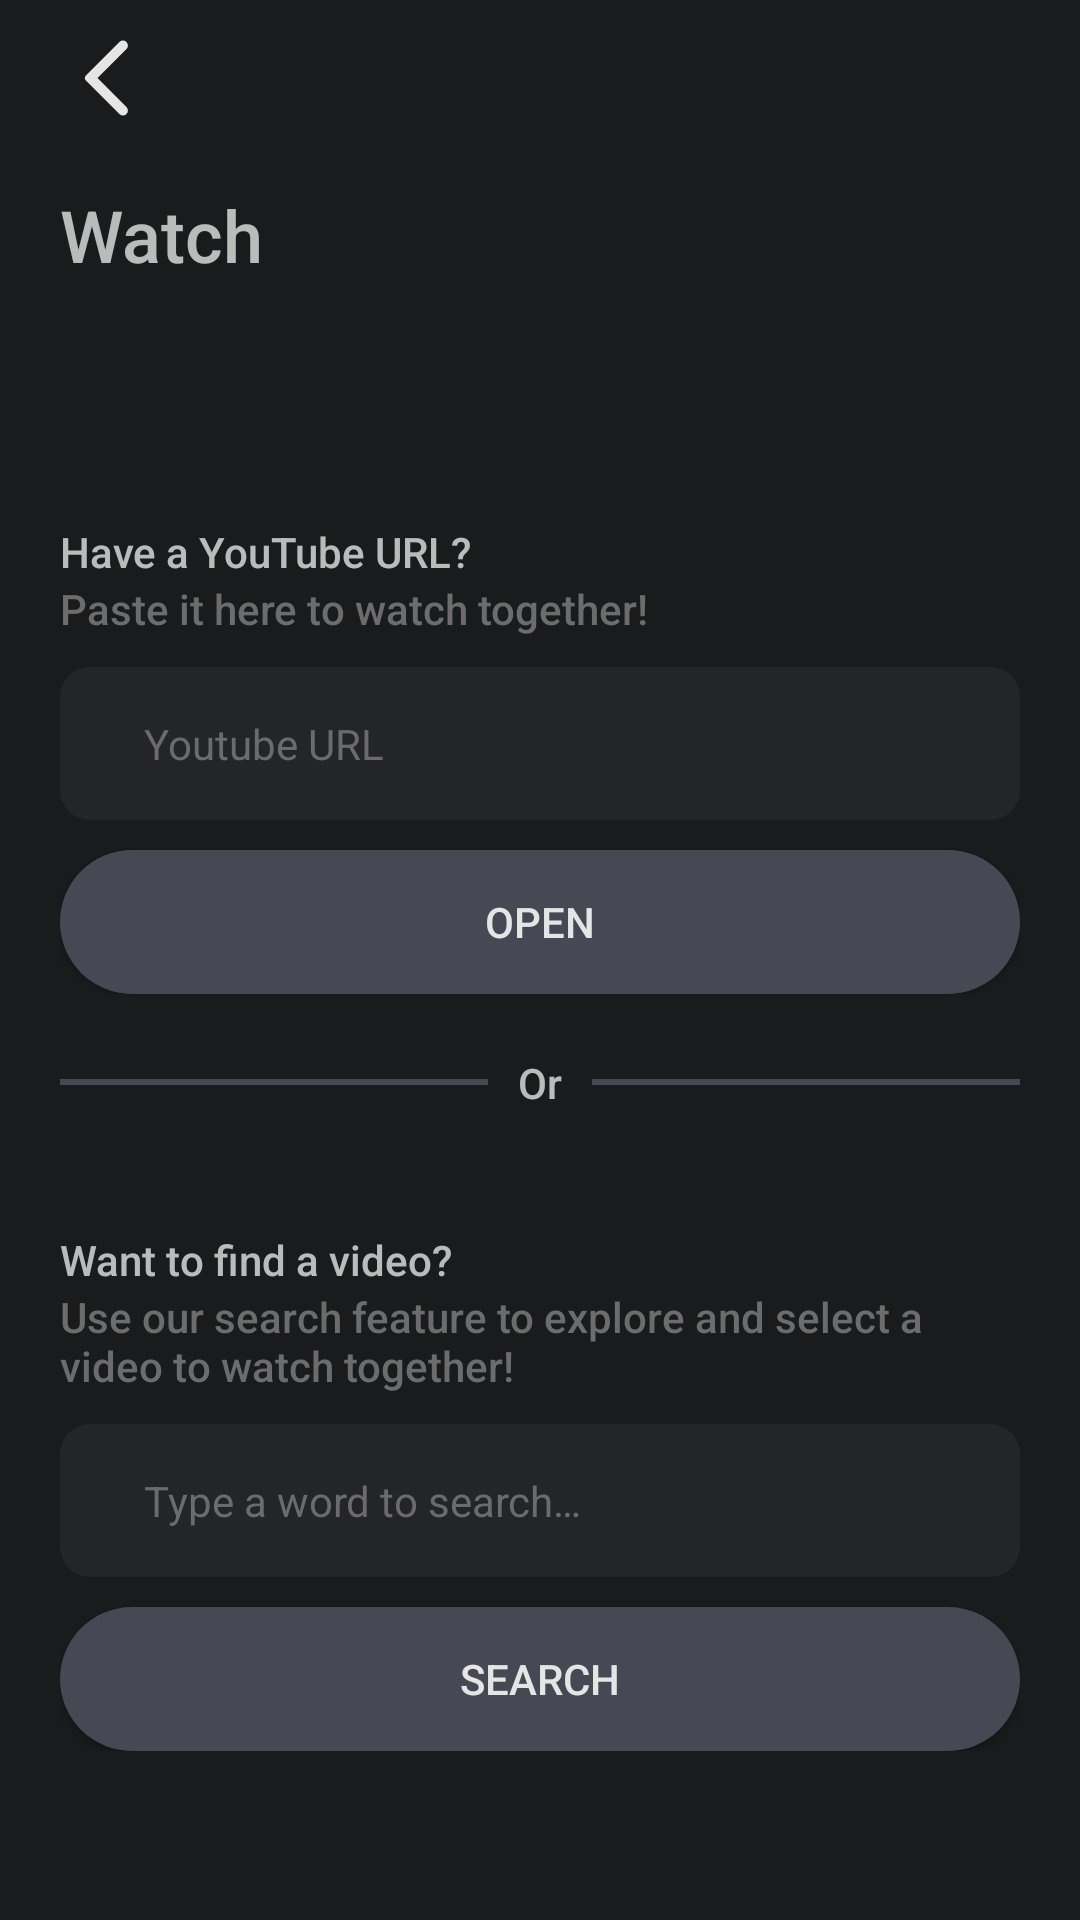

Icon click points for this 1080×1920 phone screenshot, format [x,y]:
left arrow: [106,78]
